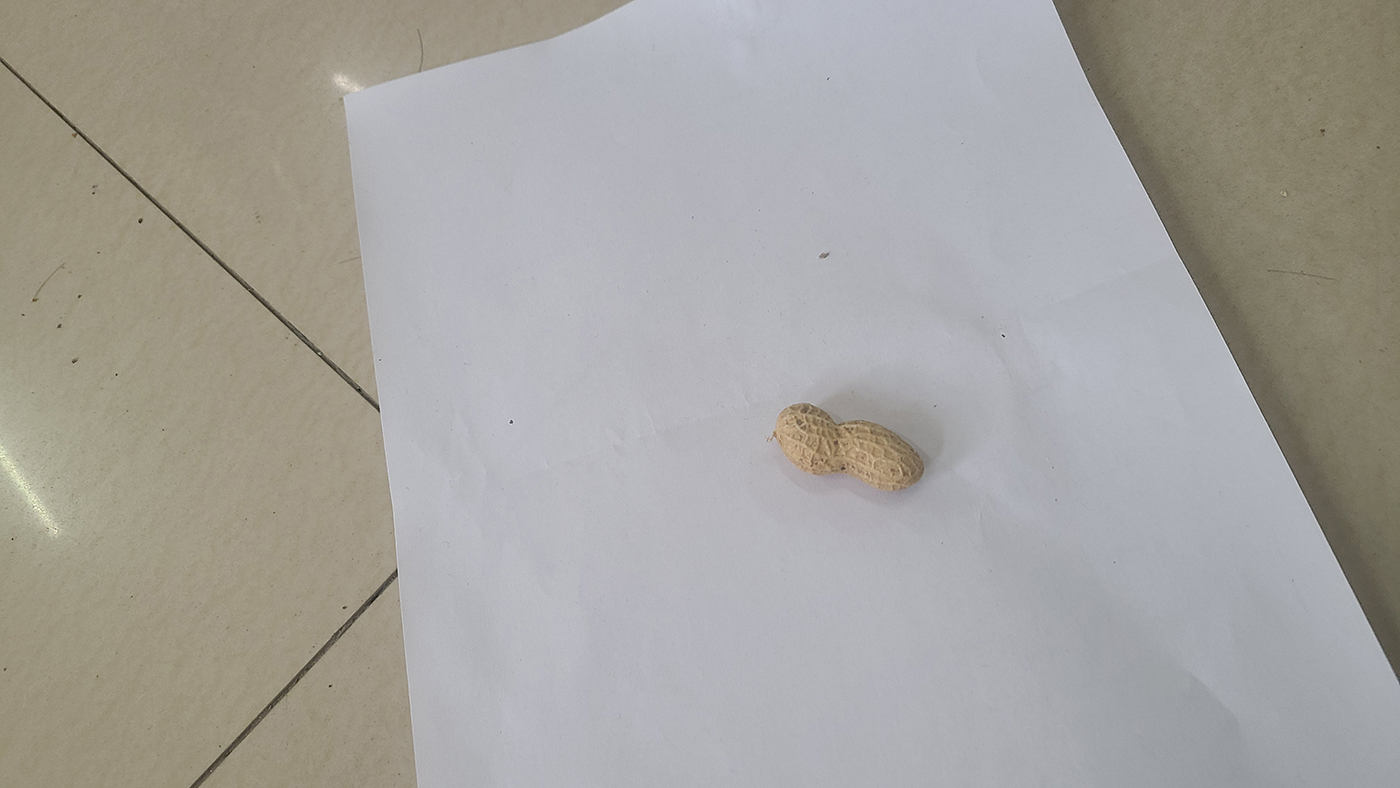h: (774, 403, 924, 490)
